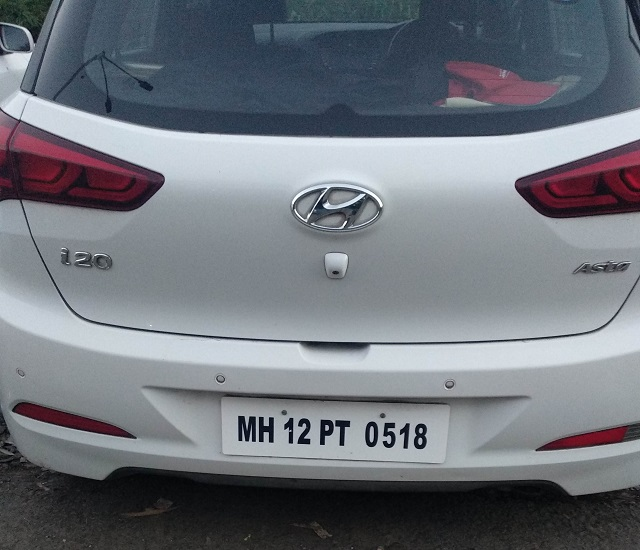licenseplate: (216, 392, 455, 464)
